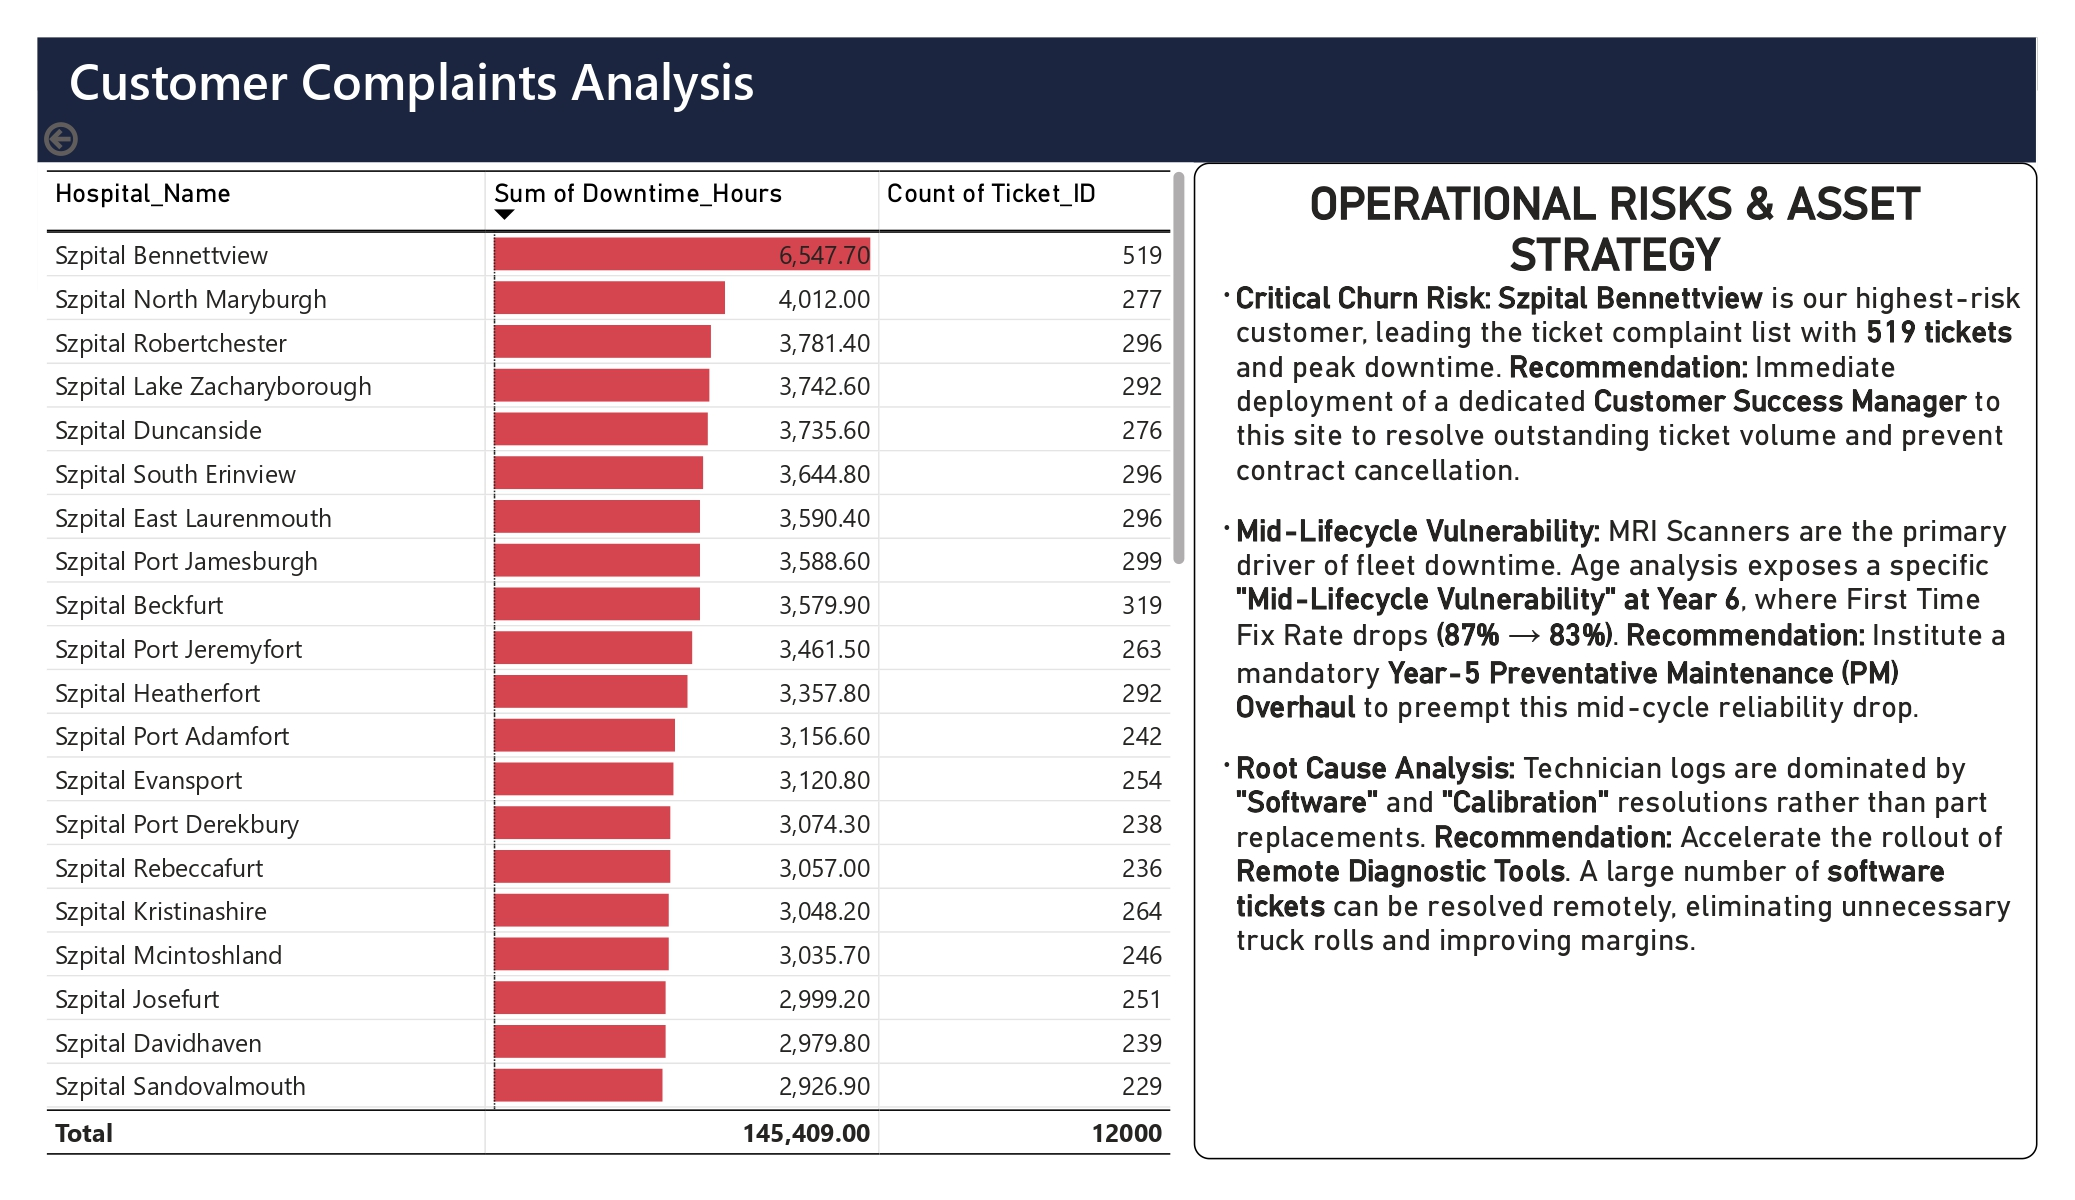

The dashboard page shown, as its layout file describes it:
{"tool":"powerbi","page":{"name":"Customer Insight","canvas":[1280,720],"ordinal":4},"visuals":[{"type":"shape","box":[0,0,1279.4,80],"z":0},{"type":"textbox","box":[0,0,640,80],"z":1000},{"type":"actionButton","box":[0,50,100,30],"z":2000},{"type":"tableEx","fields":{"Values":["Machines.Hospital_Name","Sum(Tickets.Downtime_Hours)","Tickets.Ticket_ID"]},"box":[0,80,740,640],"z":3000},{"type":"textbox","box":[740,80,540,638.3],"z":4000}]}

Visuals, with their boxes in screenshot pixels (x1, y1, x2, y2):
shape: bbox(38, 38, 2037, 162)
textbox: bbox(38, 38, 1038, 162)
actionButton: bbox(38, 116, 194, 162)
tableEx - Machines.Hospital_Name x Sum(Tickets.Downtime_Hours): bbox(38, 162, 1194, 1162)
textbox: bbox(1194, 162, 2038, 1160)
